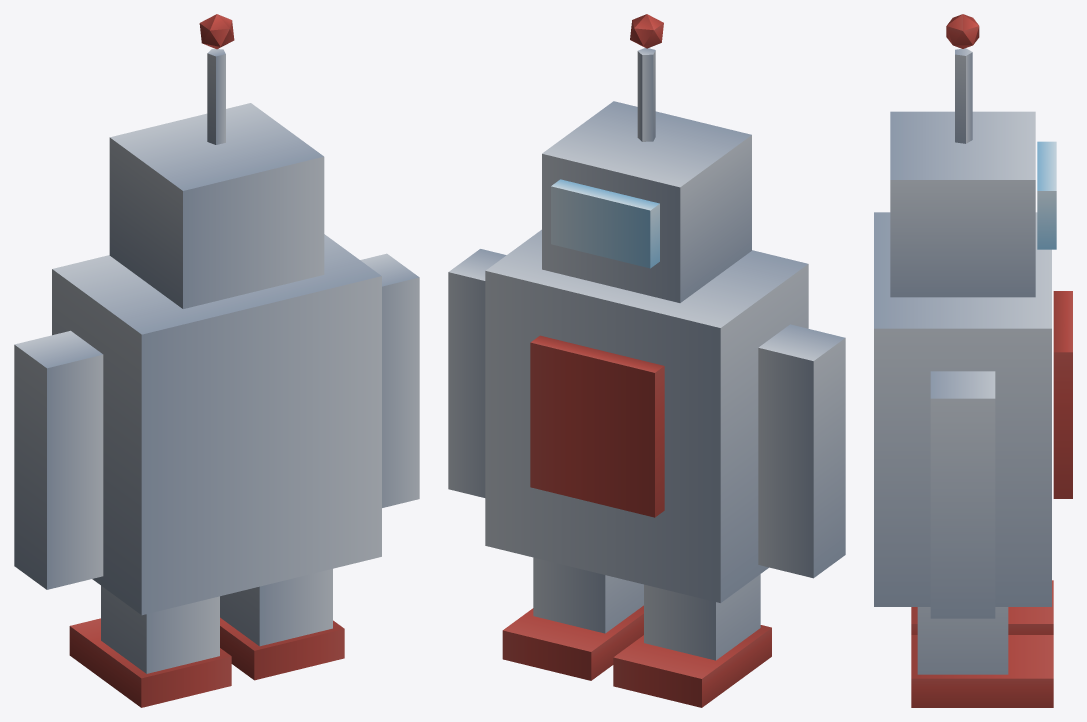
File: tin_robot.fbx
3 renders of one model, left to right at view 1: azimuth 30°, elevation 25°; view 2: azimuth 150°, elevation 25°; view 3: azimuth 270°, elevation 25°, orthographic. The views are drawn at different scales.
Parts seen in each view (by area): view 1: tin_robot; view 2: tin_robot; view 3: tin_robot.
Part boxes in pixels (box(x1,y1,x2,y2)): tin_robot: box(14, 14, 419, 707); tin_robot: box(448, 14, 845, 707); tin_robot: box(874, 14, 1072, 707).
Size of the model in its own units: 162 by 270 by 75.48.
